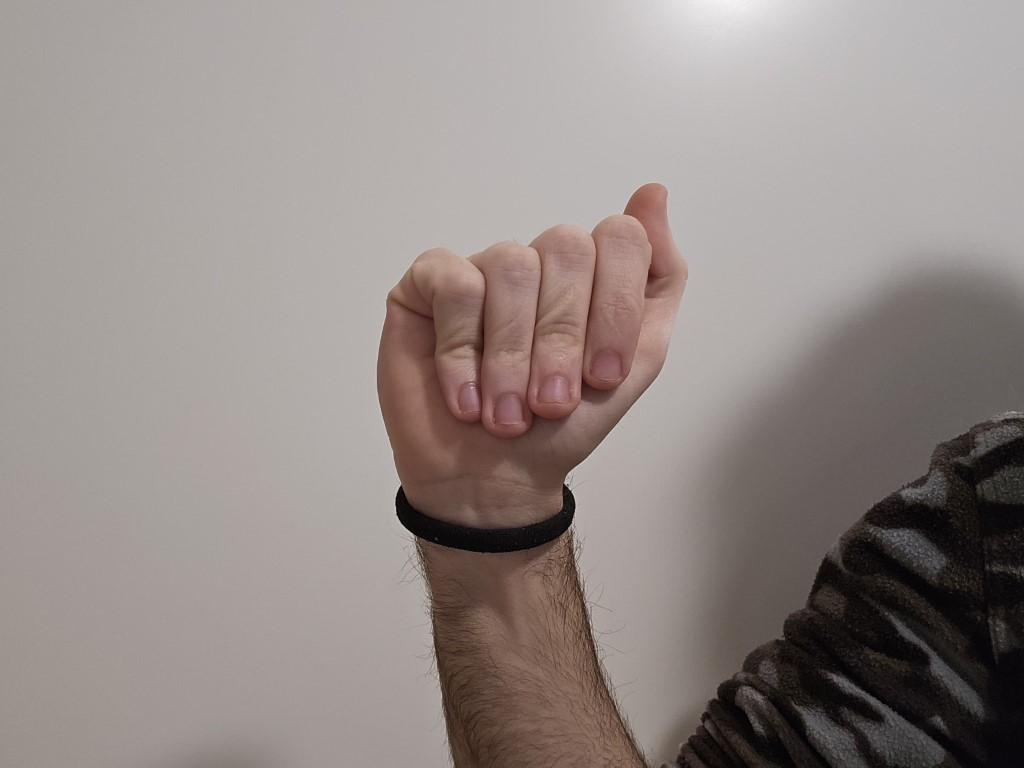a: (344, 163, 718, 547)
